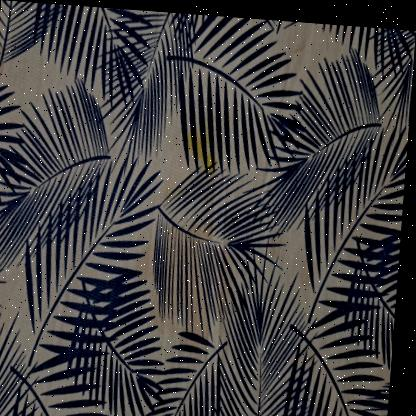spot: (141, 109, 263, 326)
